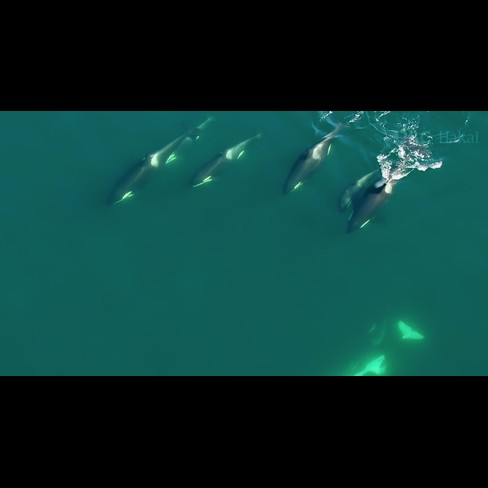orca: (91, 112, 220, 215), (344, 143, 427, 236), (274, 117, 352, 202), (185, 131, 274, 197)
